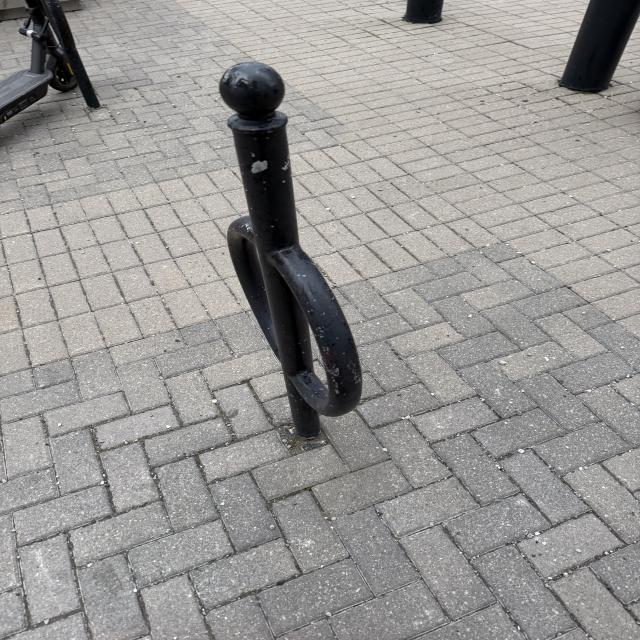Bicycle Rack: (219, 59, 367, 443)
